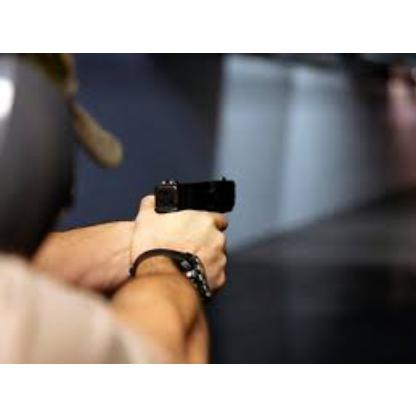gun: (151, 180, 235, 272)
